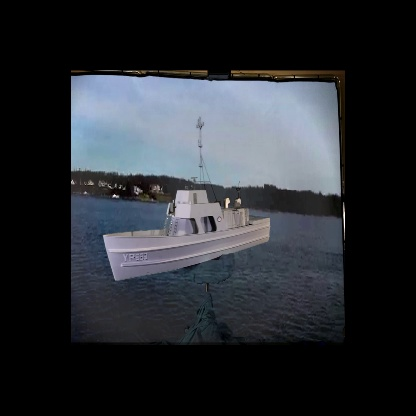YP689: (102, 118, 271, 283)
